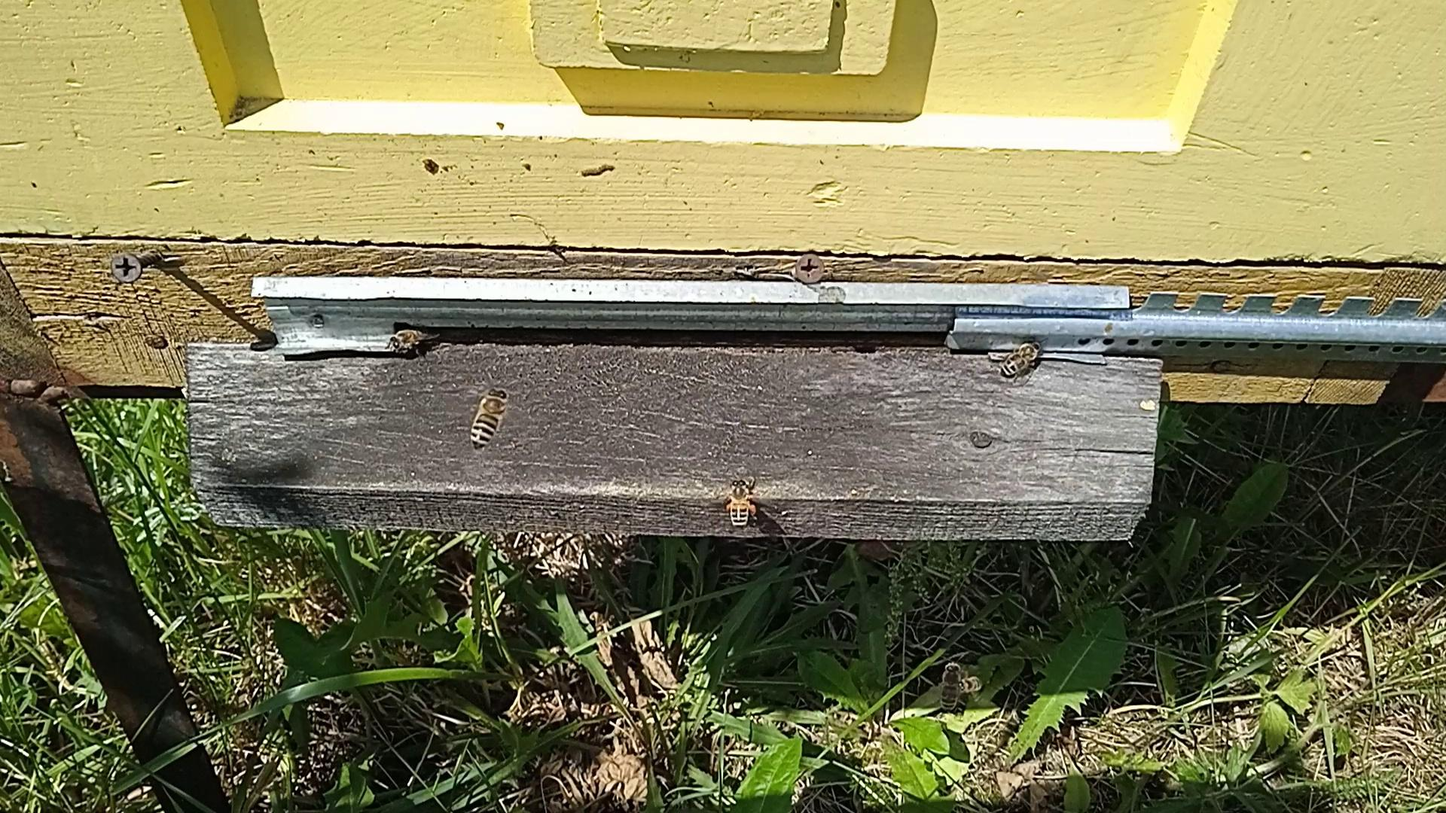worker-bee: (468, 387, 509, 449), (997, 340, 1044, 378), (725, 477, 758, 531), (387, 323, 438, 354), (940, 660, 966, 714), (958, 677, 984, 693)
